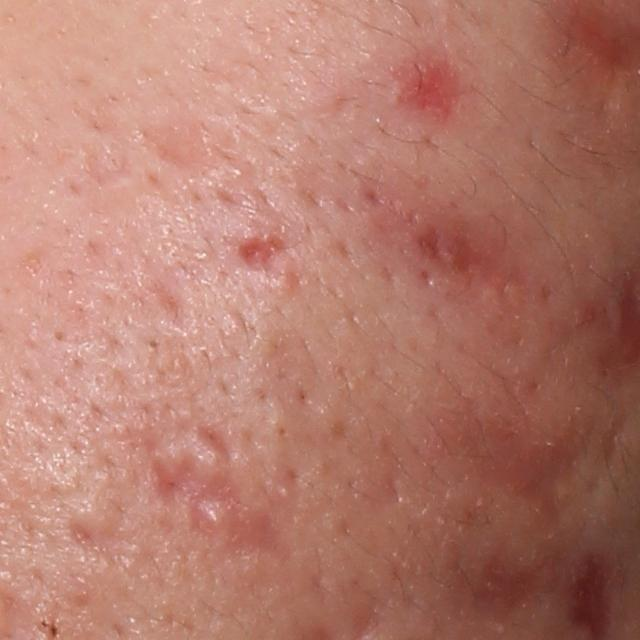atrophic_scar: (450, 406, 638, 535), (183, 474, 299, 569), (462, 561, 546, 634), (152, 451, 209, 518), (145, 128, 214, 176), (233, 228, 296, 272), (448, 231, 507, 276), (195, 423, 240, 471), (146, 283, 190, 331), (415, 221, 444, 264), (64, 522, 100, 553), (382, 467, 407, 508)
